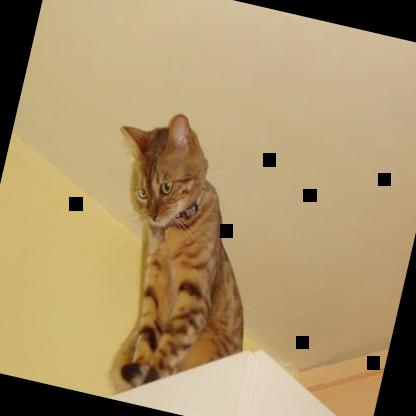cat: (64, 100, 292, 414)
